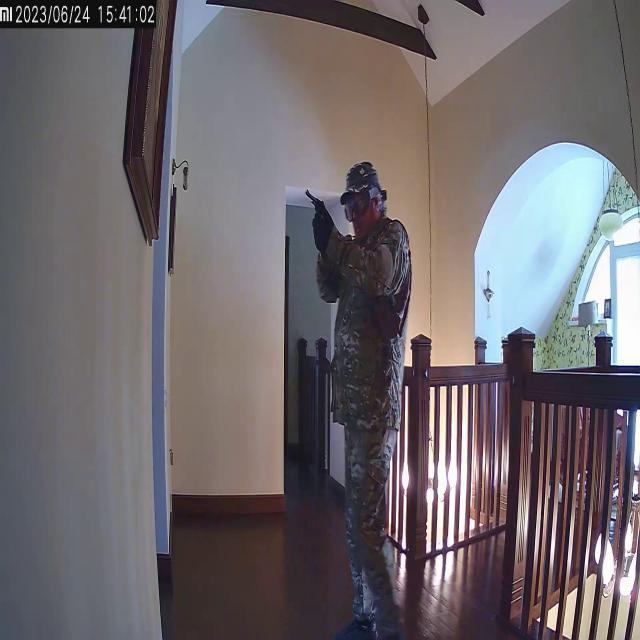gun: (301, 161, 412, 637), (304, 185, 328, 229)
